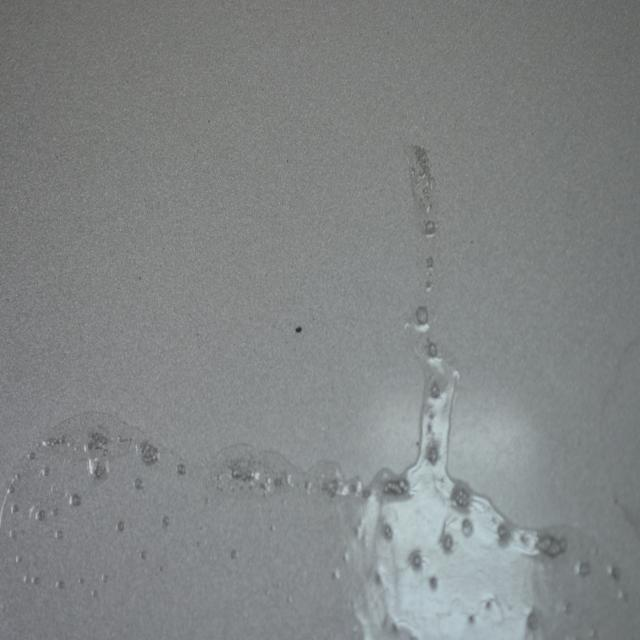dirt: (295, 323, 304, 337)
runs: (0, 142, 640, 640)
water marks: (593, 329, 640, 554)
